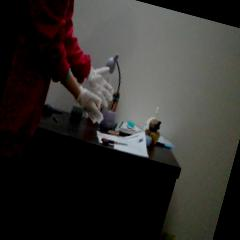gloved: (83, 61, 120, 104), (71, 86, 109, 126)
